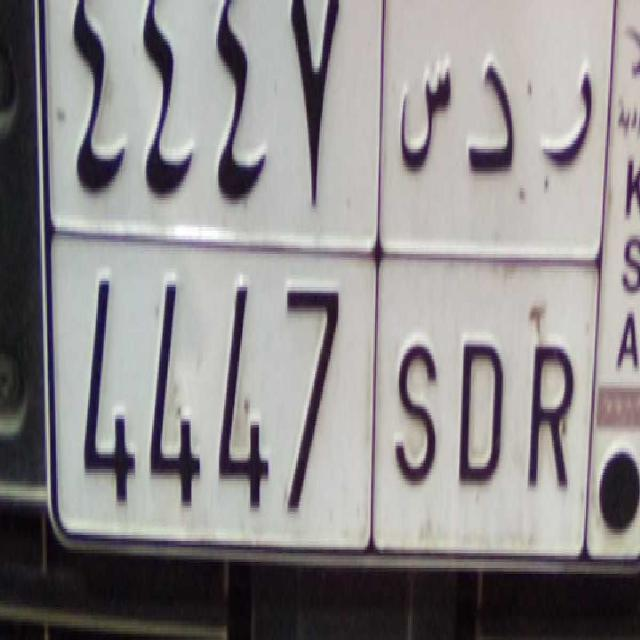license_plate: (60, 212, 584, 542)
